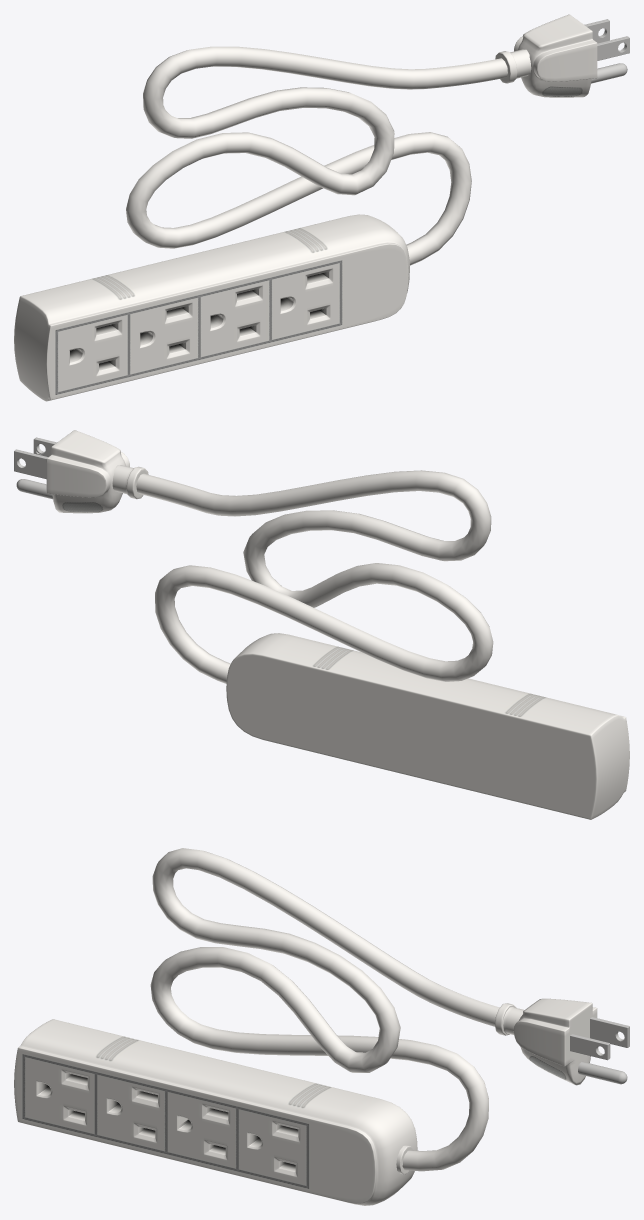
The model's file is 10096_AC_power_strip_v2_L2.obj.
3 renders of one model, top to bottom at view 1: azimuth 30°, elevation 25°; view 2: azimuth 150°, elevation 25°; view 3: azimuth 330°, elevation 25°, orthographic.
Visible parts, largest first — view 1: 10096_AC_Power_Strip; view 2: 10096_AC_Power_Strip; view 3: 10096_AC_Power_Strip.
Part boxes in pixels (box(x1,y1,x2,y2)): 10096_AC_Power_Strip: box(14, 14, 629, 401); 10096_AC_Power_Strip: box(14, 430, 629, 819); 10096_AC_Power_Strip: box(14, 848, 629, 1205).
Bounding box in the file's own units: 25.25 × 12.24 × 2.49.
Materials: 1 (1 with a texture image).
